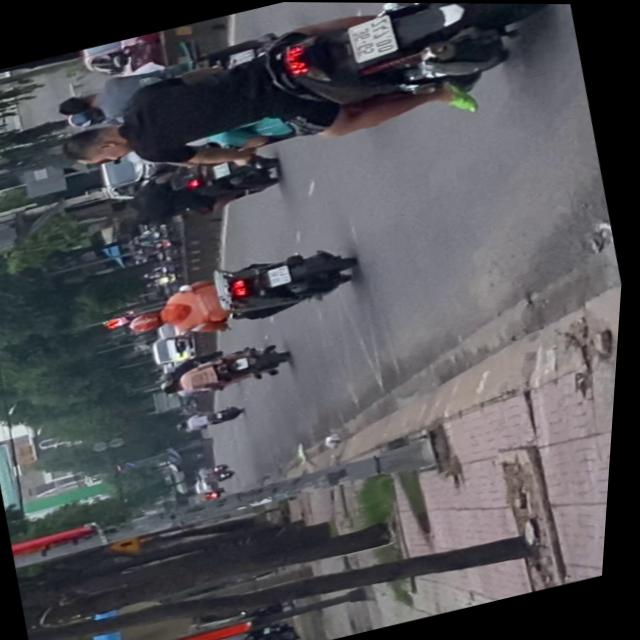helmet: (127, 306, 171, 335), (66, 106, 106, 130)
licenseplate: (35, 0, 566, 210), (120, 234, 366, 351)
motorcyclist: (56, 115, 136, 172), (53, 88, 100, 120)
nohelmet: (342, 14, 398, 63), (268, 265, 293, 287)
